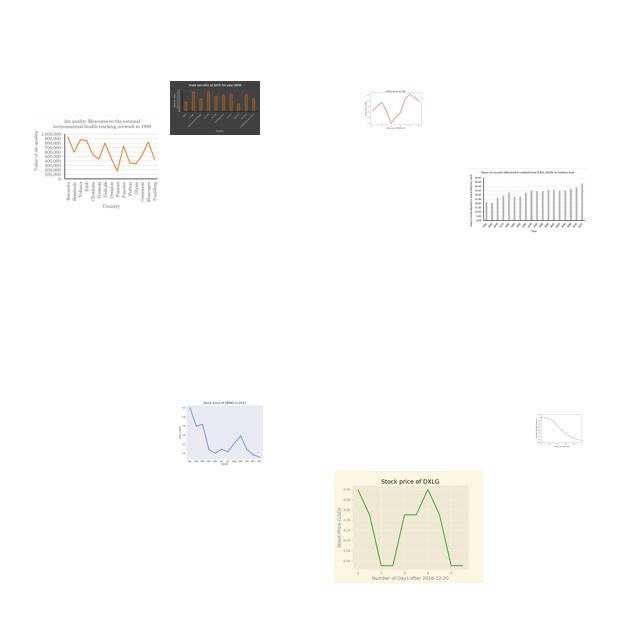Graph: (334, 471, 483, 583), (31, 115, 160, 211), (468, 168, 587, 235), (174, 395, 273, 469), (170, 81, 260, 135), (362, 86, 428, 131), (532, 412, 585, 449)
